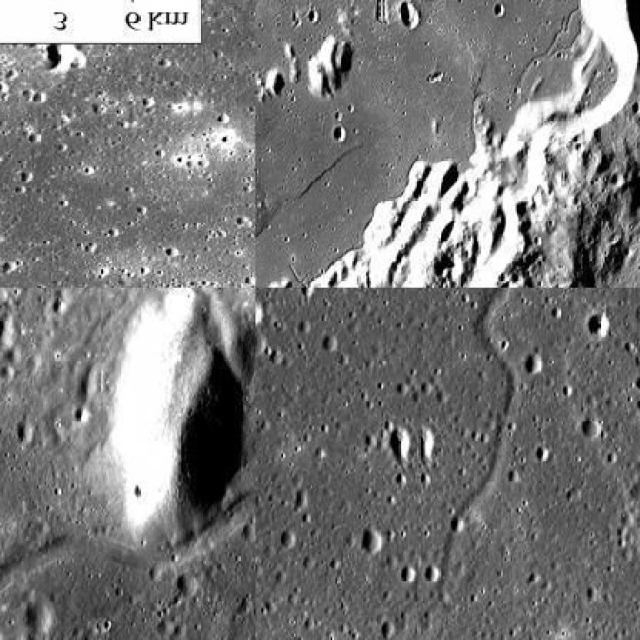rille: (315, 287, 628, 638), (0, 389, 254, 605), (101, 12, 254, 286), (0, 287, 168, 478), (511, 17, 566, 97), (548, 15, 586, 63), (563, 10, 579, 36)
